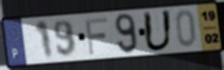0: (174, 8, 198, 50)
1: (34, 19, 55, 61)
9: (115, 12, 139, 55), (53, 19, 78, 58)
F: (84, 16, 110, 56)
U: (141, 9, 174, 53)
